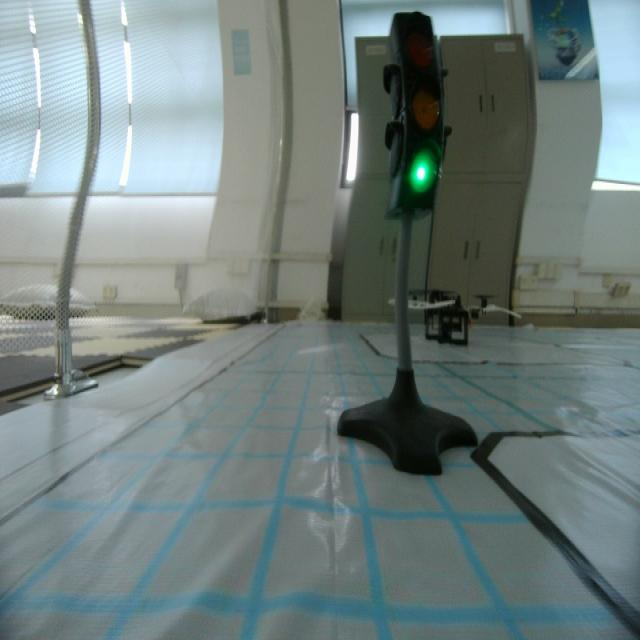green: (382, 12, 445, 223)
